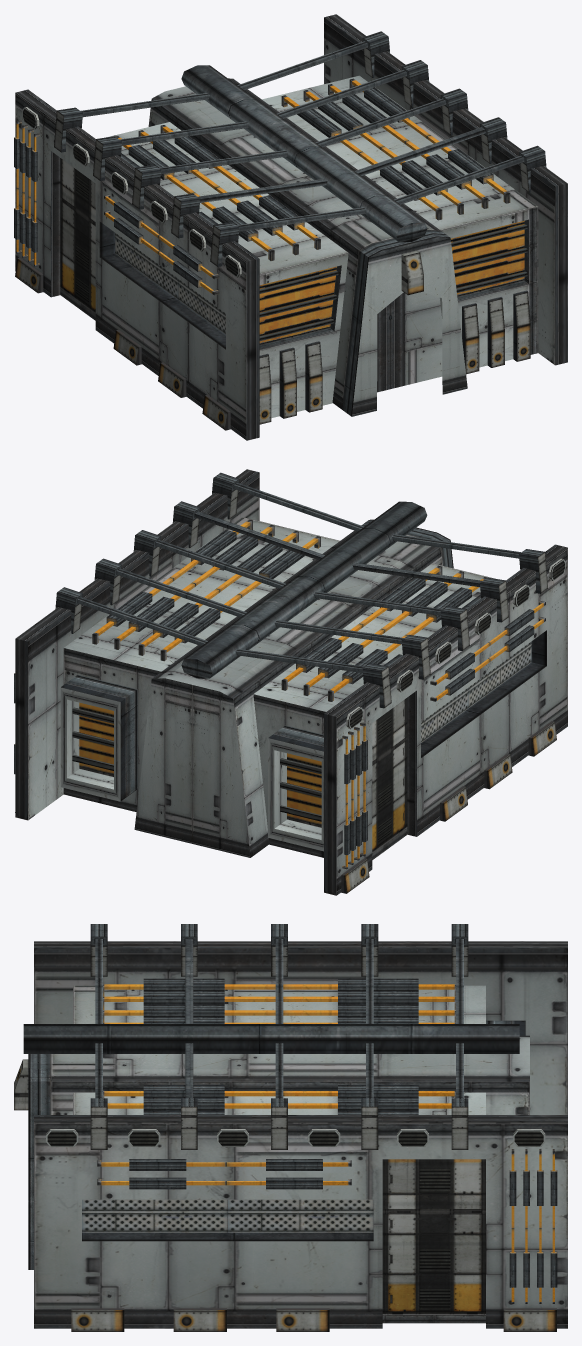
Rendered from casa-01-sciRETEX.fbx.
3 views of the same model, one above another, from view 1: azimuth 30°, elevation 25°; view 2: azimuth 150°, elevation 25°; view 3: azimuth 270°, elevation 25° (orthographic). The views are drawn at different scales.
Parts seen in each view (by area): view 1: Cube, Cube.001; view 2: Cube, Cube.001; view 3: Cube, Cube.001.
Boxes of the visible parts, x1,y1,x2,y2 form: Cube: [14, 14, 567, 440]; Cube.001: [181, 65, 427, 242]; Cube: [14, 469, 567, 895]; Cube.001: [181, 501, 427, 678]; Cube: [14, 924, 567, 1331]; Cube.001: [23, 1024, 519, 1053].
Bounding box in the file's own units: 6.55 × 3.6 × 8.1.
